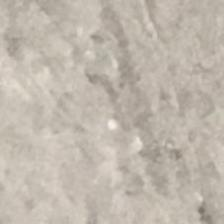Non_Crack: (27, 1, 224, 224)
